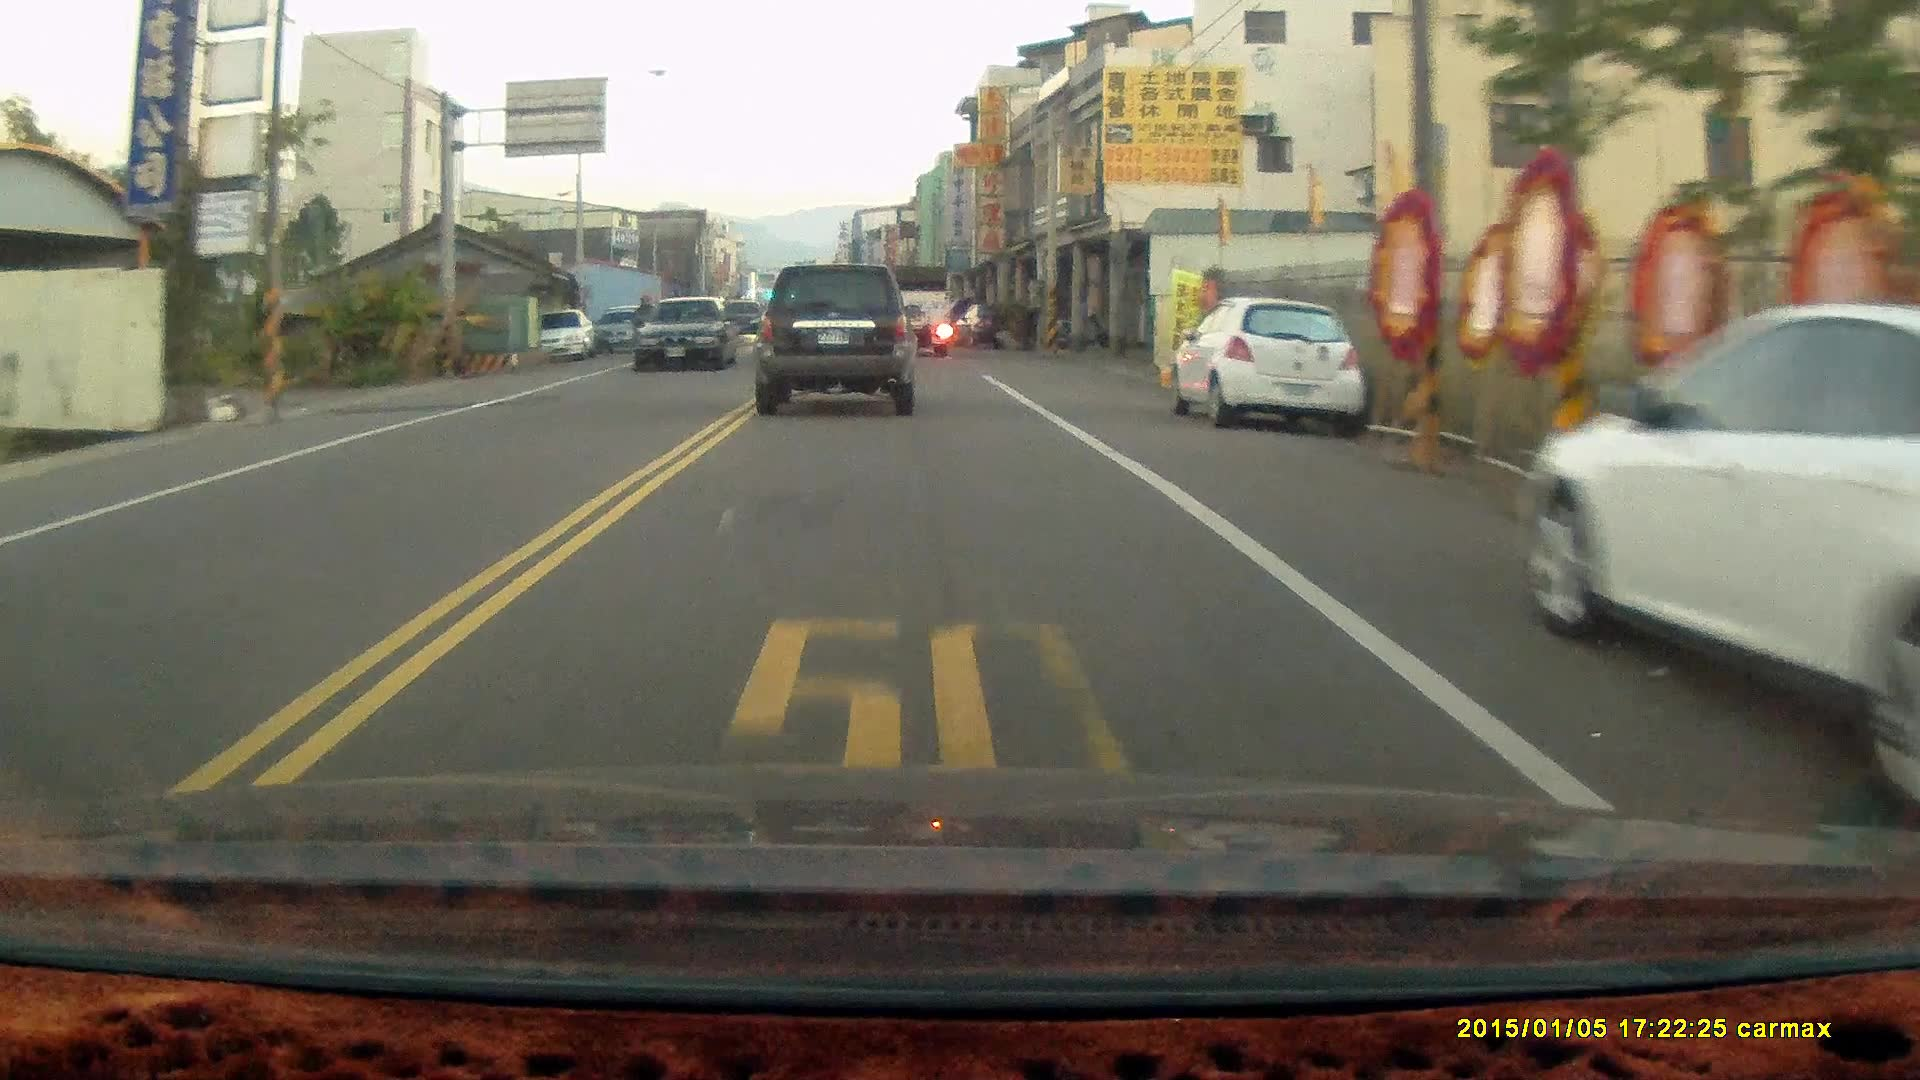vehicle: (1515, 303, 1920, 827), (1174, 297, 1360, 440), (749, 264, 919, 417), (638, 291, 742, 372), (881, 262, 957, 357), (520, 309, 599, 363), (589, 306, 657, 356)
